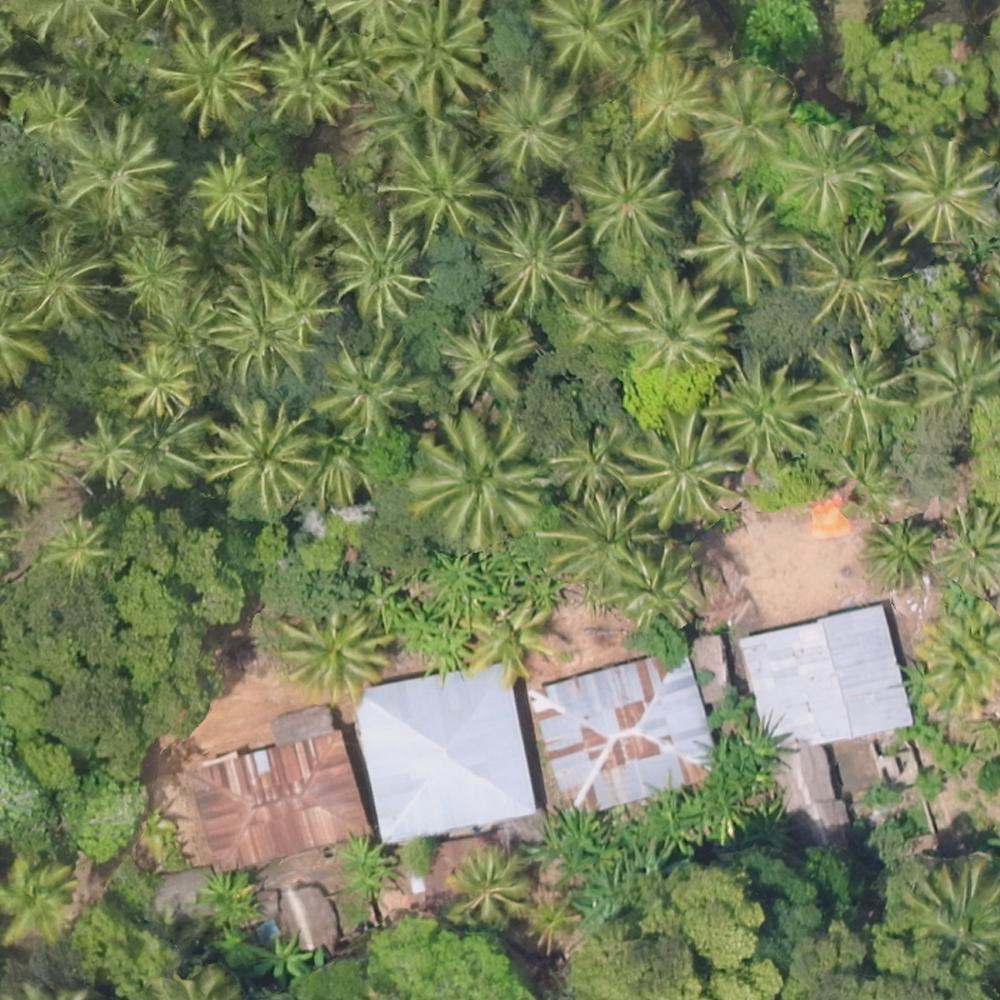Palm: (411, 411, 550, 536), (626, 410, 742, 522), (382, 5, 500, 114), (384, 129, 494, 244), (161, 17, 271, 129), (688, 188, 796, 302), (205, 398, 319, 504), (888, 136, 999, 242), (483, 198, 587, 307), (49, 116, 165, 212), (711, 357, 815, 464), (276, 604, 394, 698), (803, 342, 907, 446), (210, 279, 315, 381), (774, 119, 876, 222), (327, 214, 427, 318), (624, 272, 732, 367), (578, 146, 680, 246), (800, 227, 901, 327), (260, 18, 355, 123), (315, 332, 416, 430), (479, 82, 580, 179), (14, 230, 111, 327), (554, 494, 650, 590), (699, 74, 794, 168), (904, 861, 1000, 952), (444, 313, 536, 402), (465, 599, 562, 681), (532, 1, 635, 76), (631, 55, 712, 148), (1, 860, 81, 948), (1, 403, 72, 502), (610, 547, 695, 627), (915, 333, 998, 414), (131, 408, 205, 492), (110, 238, 193, 312), (551, 423, 629, 495), (449, 852, 525, 924), (198, 154, 269, 231), (70, 413, 144, 486), (118, 344, 193, 416), (936, 502, 1000, 583), (15, 83, 91, 144), (866, 523, 937, 583), (266, 272, 334, 333), (43, 516, 105, 579), (562, 288, 624, 346)
